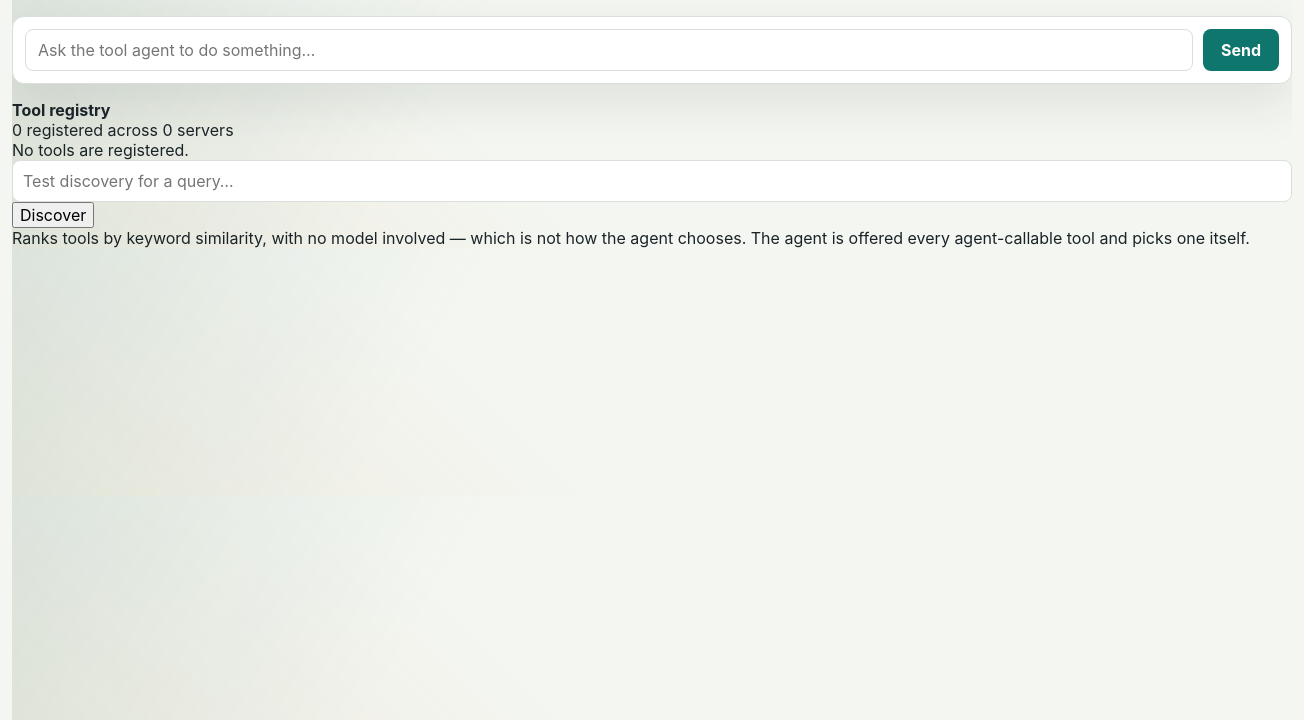
ToolAgentView tool catalog › ranks tools for a query without involving the model
Check: the text "0 registered across 0 servers" is shown, box [12, 120, 234, 140]
Step 1. Type "weather" into the field named "Discovery query" → (652, 181), box [12, 160, 1292, 202]
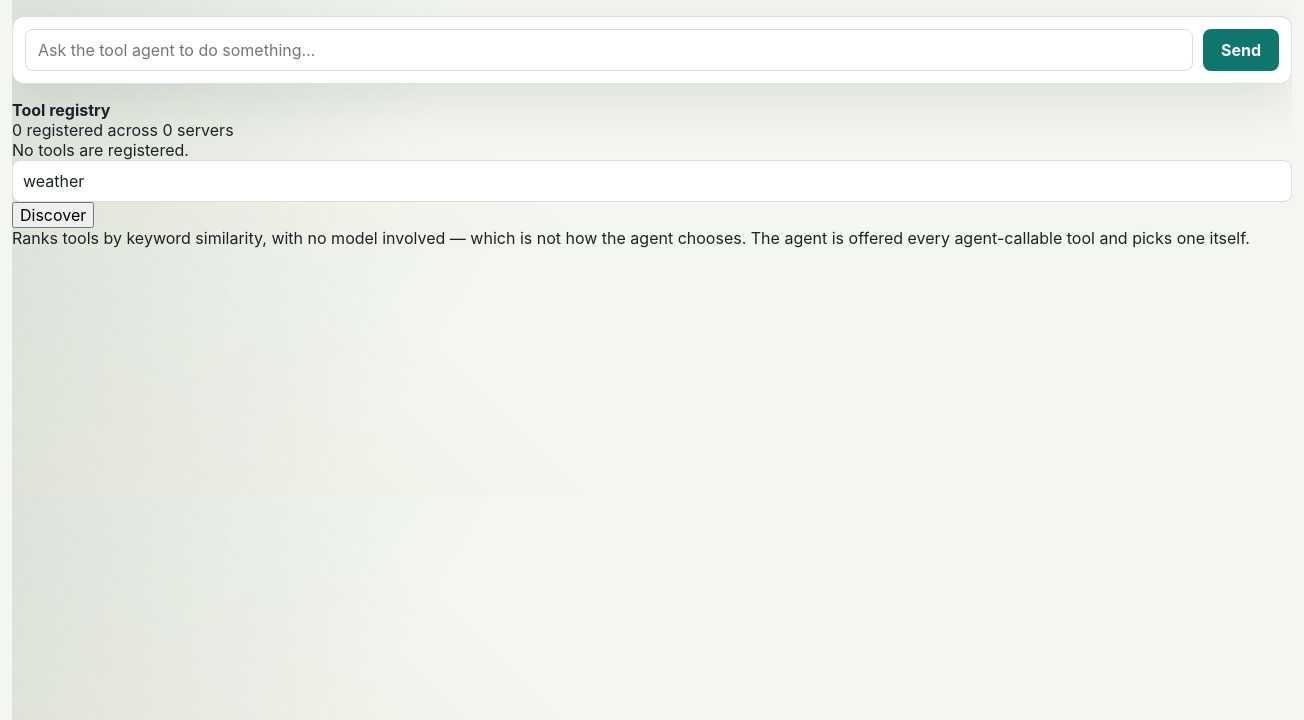
Step 2. Click the button "Discover" → (53, 215), box [12, 202, 94, 228]
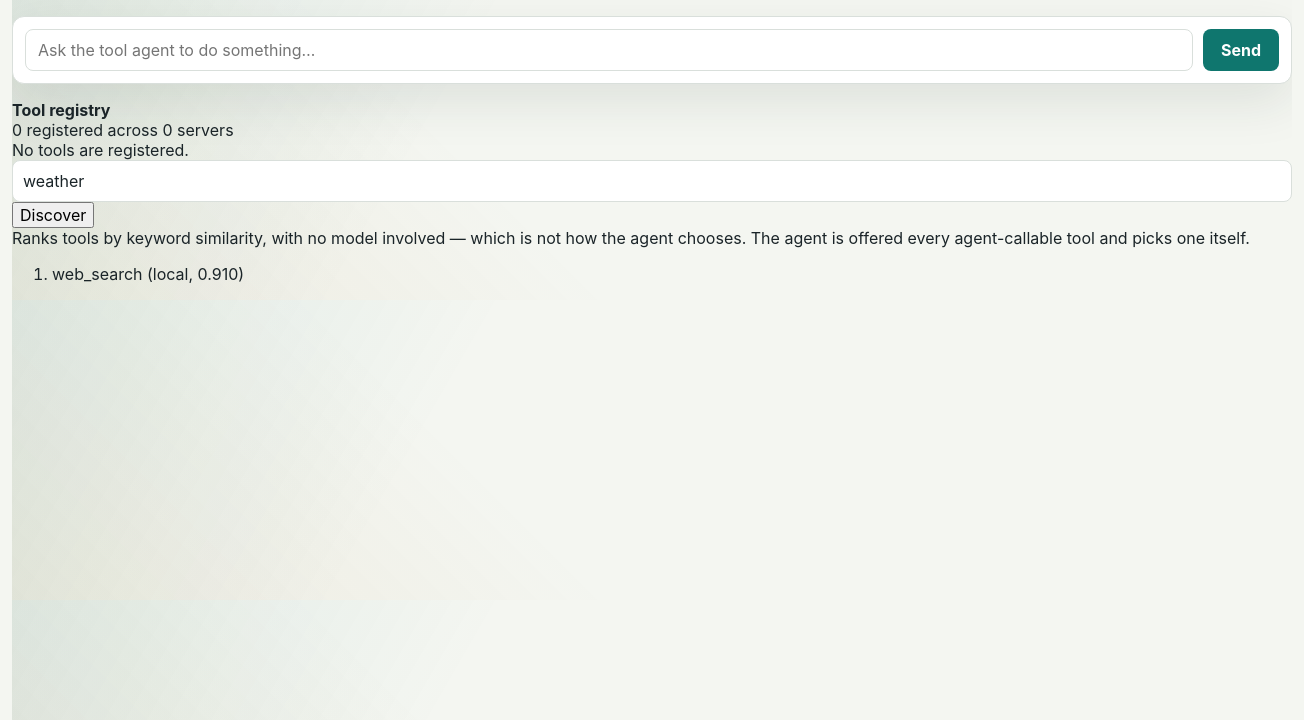
Check: the text "(local, 0.910)" is shown, box [147, 264, 244, 284]
